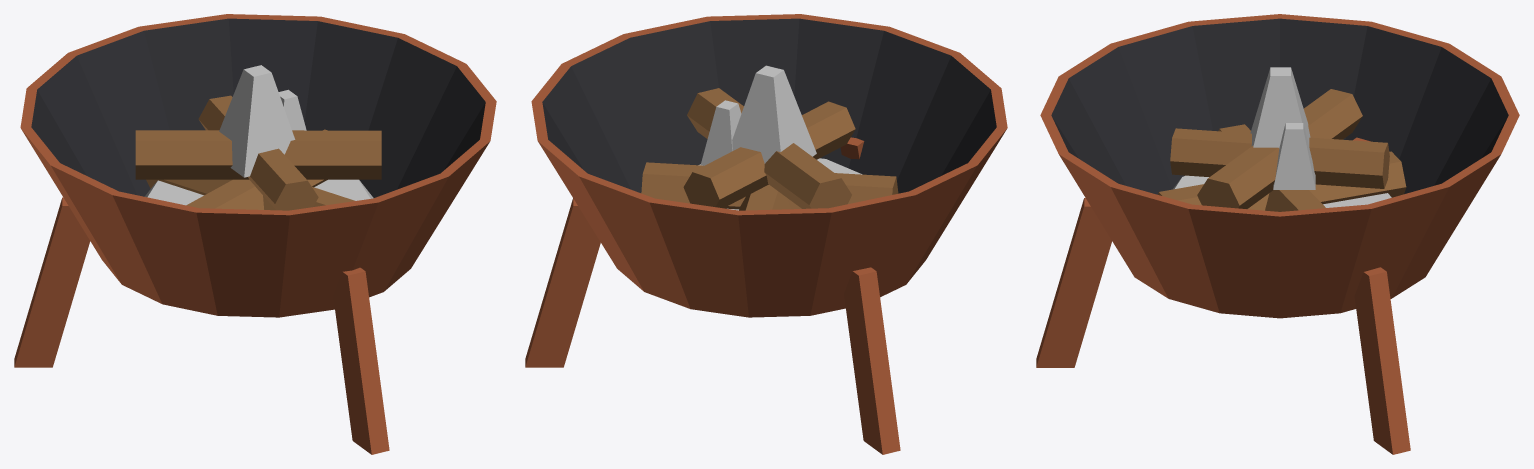
File: FN_Pit_Fire.obj
3 renders of one model, left to right at view 1: azimuth 30°, elevation 25°; view 2: azimuth 150°, elevation 25°; view 3: azimuth 270°, elevation 25°, orthographic.
Visible parts, largest first — view 1: FN_Pit_Fire; view 2: FN_Pit_Fire; view 3: FN_Pit_Fire.
Part boxes in pixels (x1,y1,x2,y2): FN_Pit_Fire: (14, 14, 496, 454); FN_Pit_Fire: (525, 14, 1007, 454); FN_Pit_Fire: (1036, 14, 1519, 454).
Bounding box in the file's own units: 0.7 × 0.47 × 0.706.
2 materials, 1 textured.
